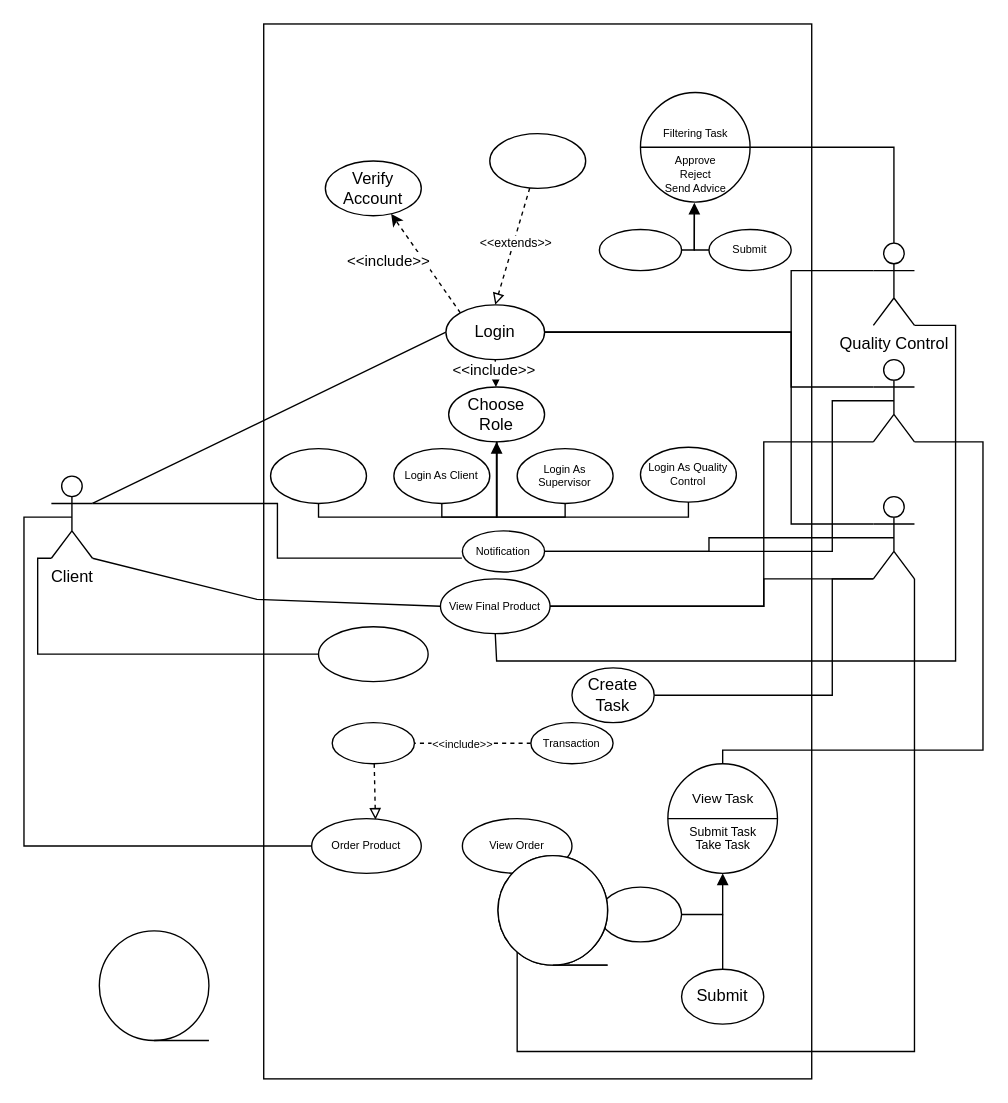
Some shapes in this 1008 by 1103 pixel diagram are drawn without their labels. Each missing label, with the box of its shape:
Checkout: (331, 721, 414, 764)
Confirm Order: (317, 625, 428, 682)
Designer: (872, 358, 914, 442)
Download: (598, 886, 682, 942)
Login As Designer: (269, 447, 366, 503)
Login Errors: (488, 132, 586, 188)
Send Revision: (598, 228, 682, 271)
Supervisor: (872, 495, 914, 579)
